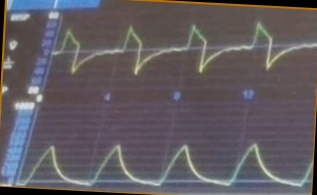Normal Flow: (55, 21, 316, 83)
Normal Volume: (22, 137, 311, 191)
